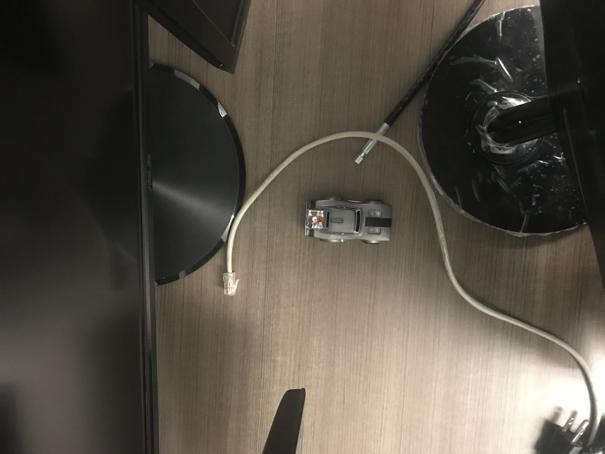Charger: (301, 193, 395, 245)
